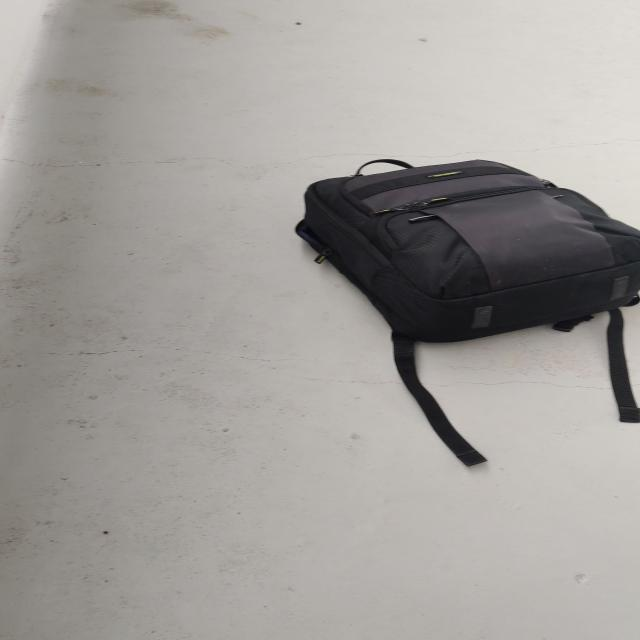backpack: (279, 154, 640, 352)
